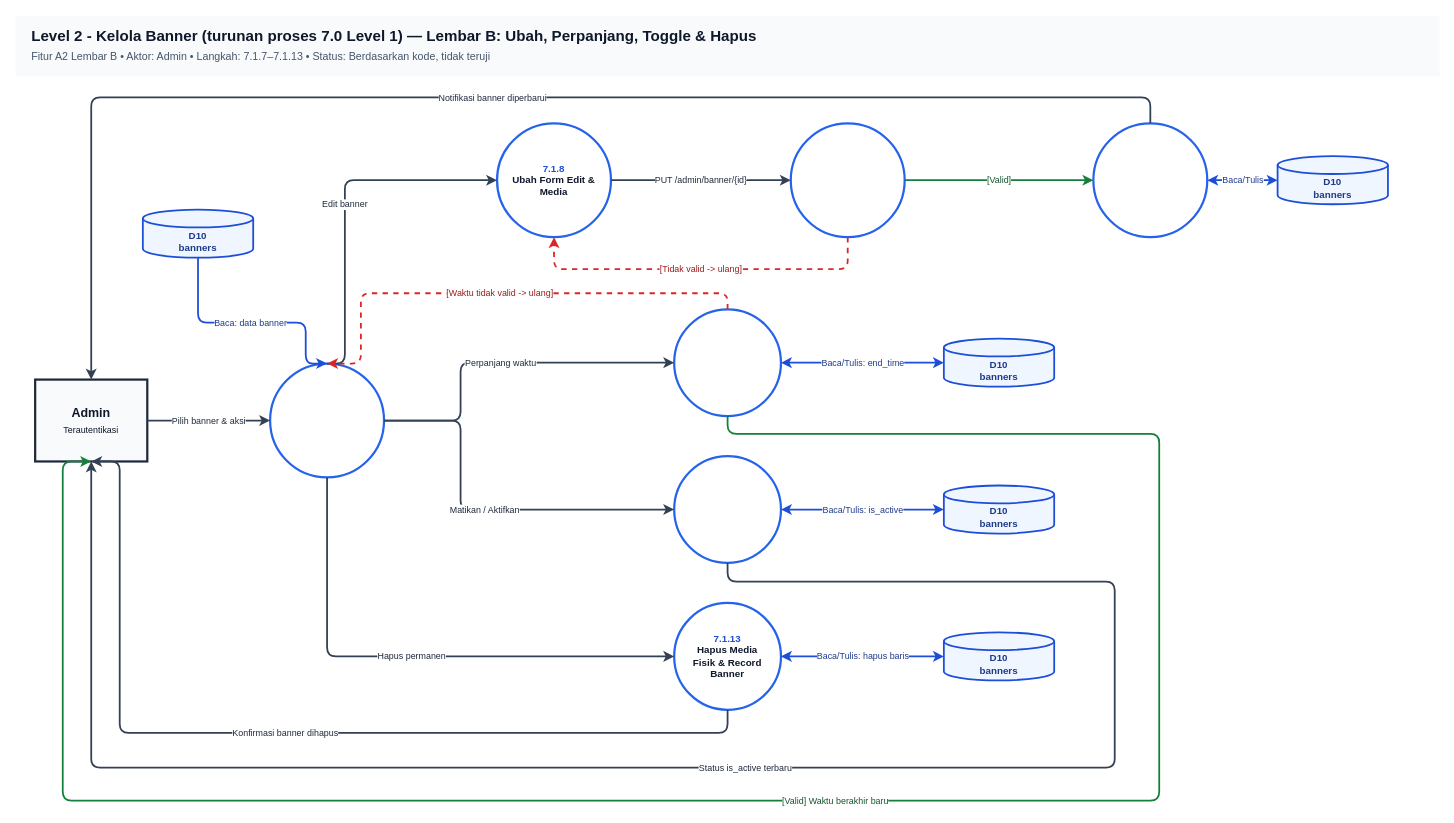
This 1454x823 diagram has some shape labels left out. The box of each missing label's shape, as (x1, y1, x2, y2) in pixels:
7.1.10 Perbarui Banner & Hapus Media Lama: (1092, 122, 1208, 238)
7.1.11 Validasi & Perpanjang Durasi Tayang: (673, 308, 782, 417)
7.1.12 Toggle Status Aktif Banner: (673, 455, 782, 564)
7.1.7 Pilih Aksi Banner di Daftar: (269, 362, 385, 478)
7.1.9 Validasi Data & Media Edit: (789, 122, 905, 238)
